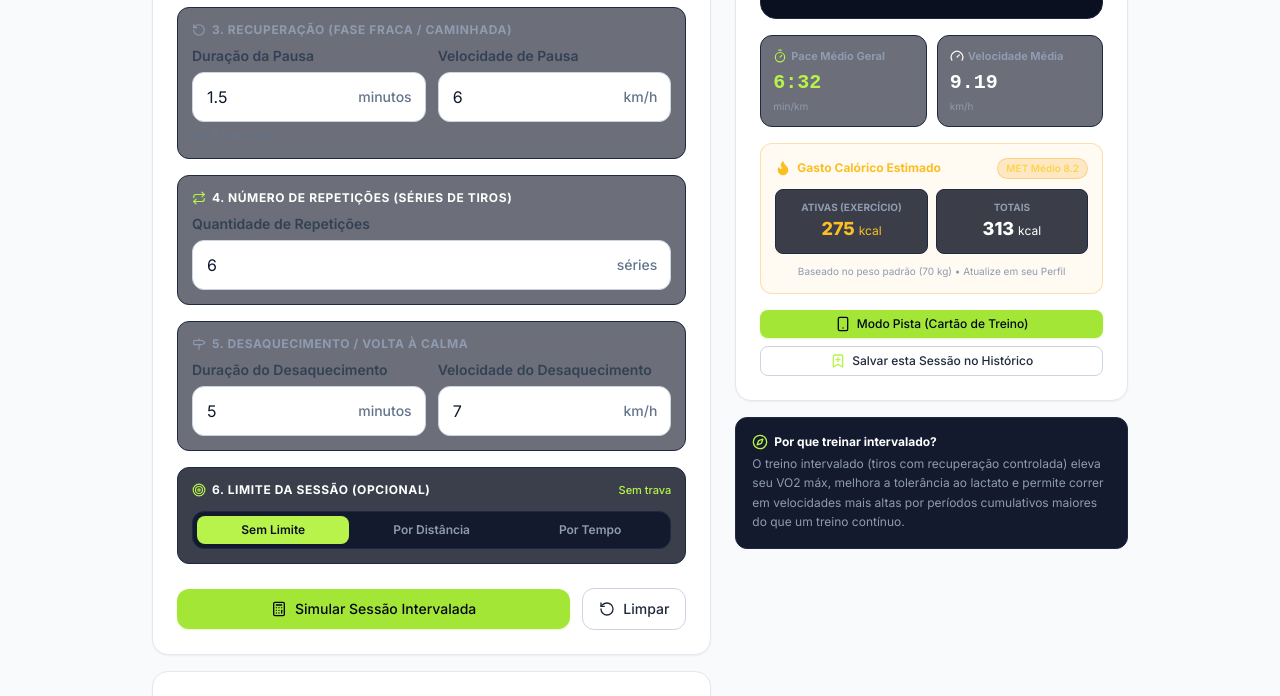
IntervaladoPage (Fase 7) › salva a sessão calculada no histórico
This screenshot has width=1280, height=696.
(page scrolled)
Click the button "Salvar esta Sessão no Histórico": (932, 360) [760, 346, 1103, 376]
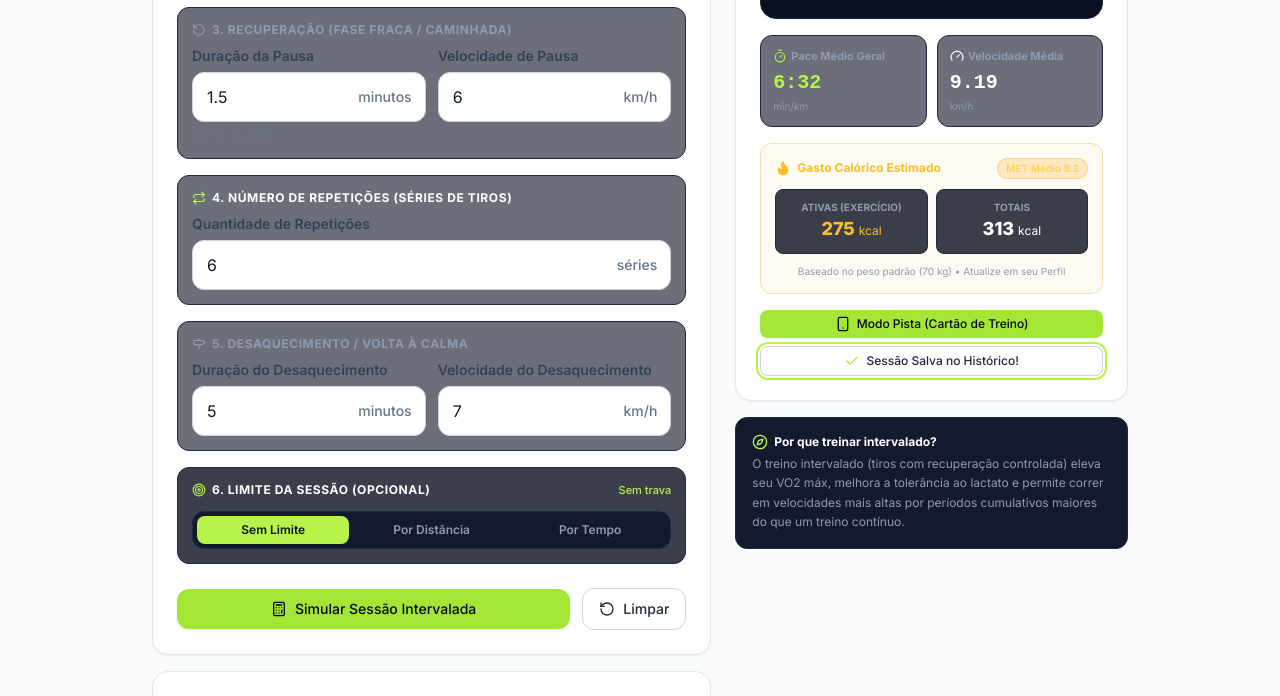
Check: the text "Sessão Salva no Histórico!" is shown, box [866, 352, 1019, 368]
